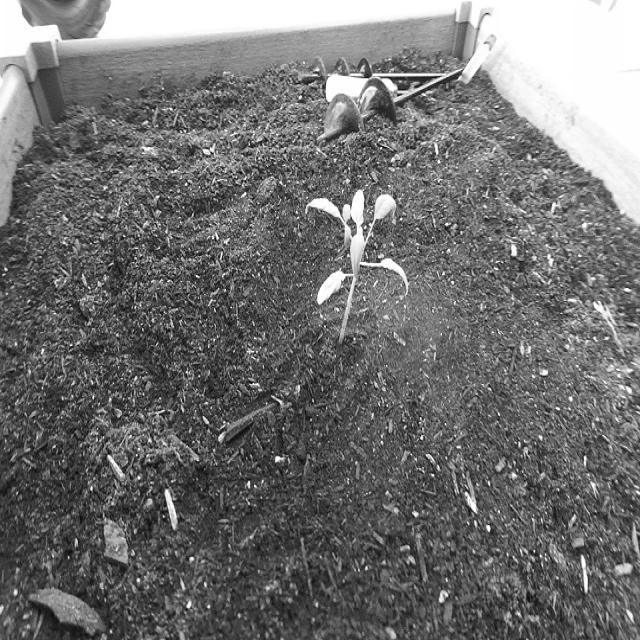Healthy: (303, 182, 413, 361)
